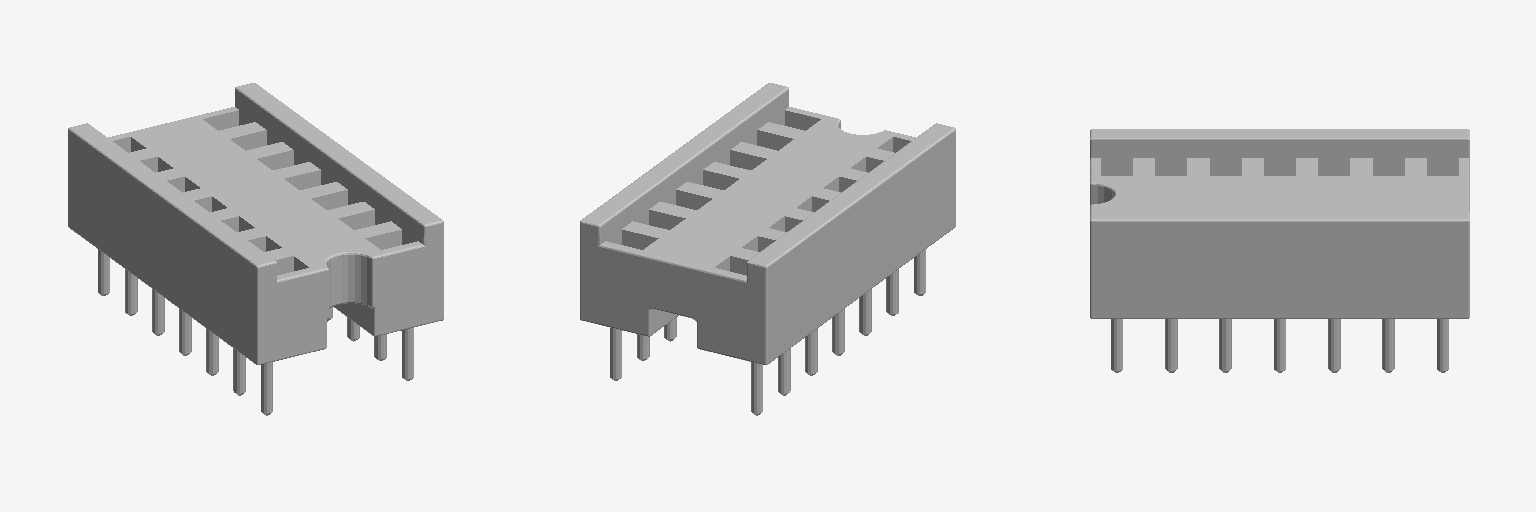
File: IC_Sockel_14P.obj
3 views of the same model, side by side, from view 1: azimuth 30°, elevation 25°; view 2: azimuth 150°, elevation 25°; view 3: azimuth 270°, elevation 25° (orthographic).
Visible parts, largest first — view 1: Volumenkörper1; view 2: Volumenkörper1; view 3: Volumenkörper1.
Boxes of the visible parts, <box> form: Volumenkörper1: <box>68,83,443,415</box>; Volumenkörper1: <box>580,83,955,415</box>; Volumenkörper1: <box>1090,129,1469,372</box>.
Bounding box in the file's own units: 10.16 × 8.46 × 17.78.